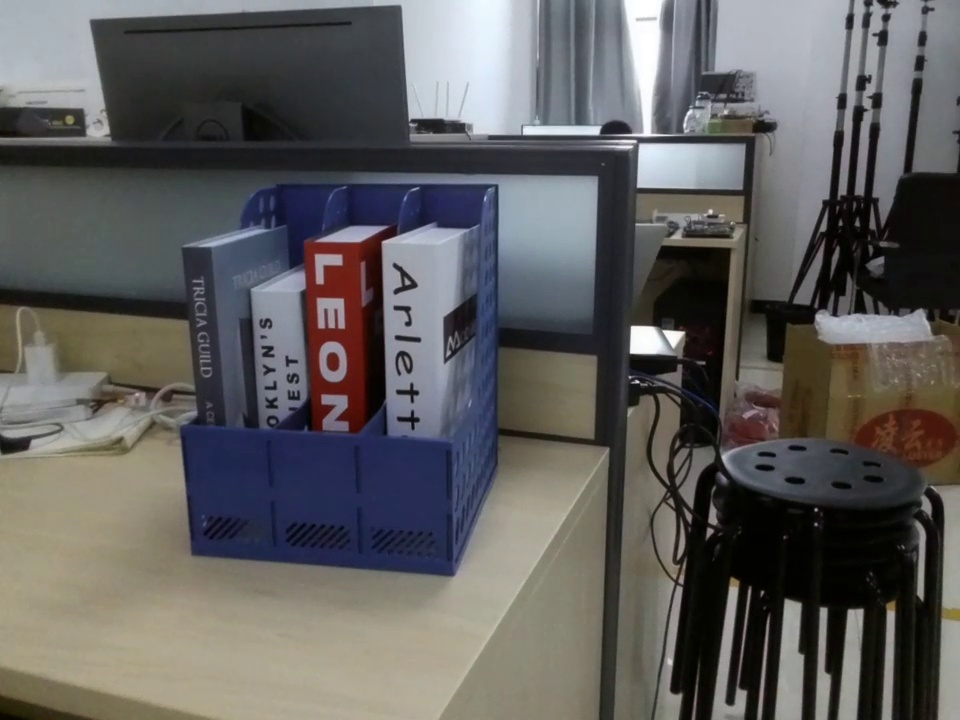files: (180, 185, 500, 579)
